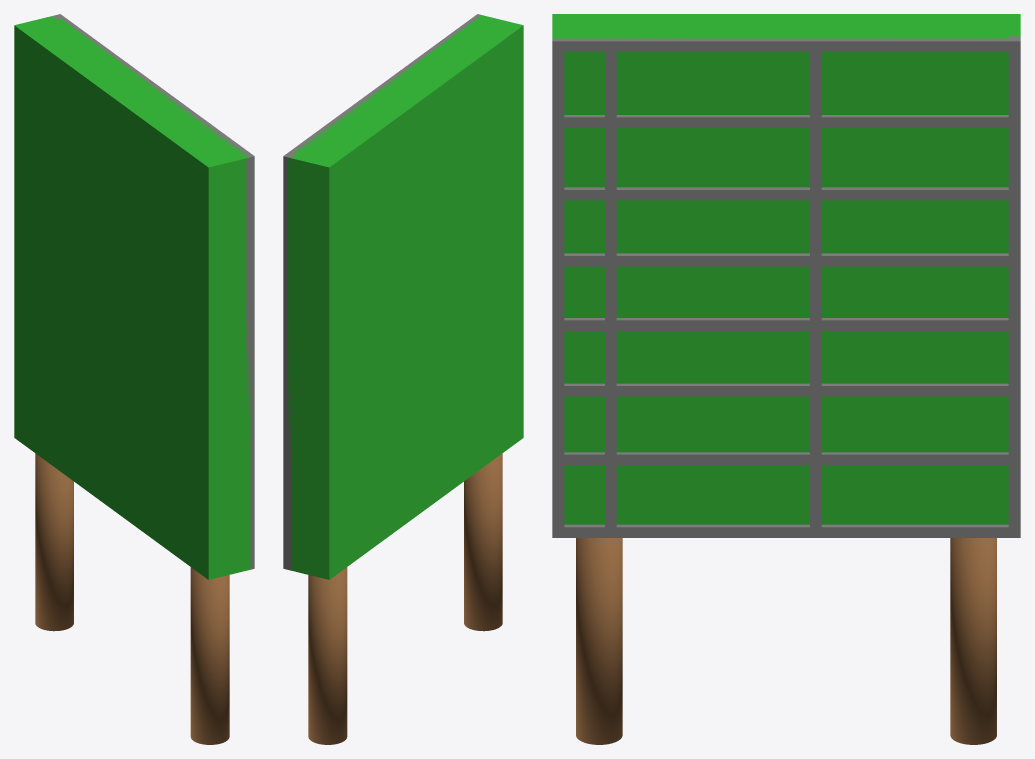
The model's file is scorboard.fbx.
3 renders of one model, left to right at view 1: azimuth 30°, elevation 25°; view 2: azimuth 150°, elevation 25°; view 3: azimuth 270°, elevation 25°, orthographic. The views are drawn at different scales.
Parts seen in each view (by area): view 1: Cube, Cylinder.001, Cylinder, Cube.005, Cube.003; view 2: Cube, Cylinder, Cylinder.001, Cube.004, Cube.003; view 3: Cube, Cylinder, Cylinder.001, Cube.004, Cube.005, Cube.003, Cube.011, Cube.010, Cube.001, Cube.007, Cube.002, Cube.008 (+3 smaller).
Boxes of the visible parts, x1=… form: Cube: x1=14, y1=16, x2=250, y2=579; Cylinder.001: x1=190, y1=567, x2=229, y2=744; Cylinder: x1=35, y1=453, x2=73, y2=631; Cube.005: x1=246, y1=156, x2=254, y2=560; Cube.003: x1=61, y1=17, x2=254, y2=157; Cube: x1=287, y1=15, x2=523, y2=579; Cylinder: x1=308, y1=567, x2=347, y2=744; Cylinder.001: x1=464, y1=453, x2=502, y2=631; Cube.004: x1=283, y1=152, x2=295, y2=570; Cube.003: x1=283, y1=14, x2=481, y2=165; Cube: x1=552, y1=14, x2=1020, y2=524; Cylinder: x1=950, y1=538, x2=996, y2=744; Cylinder.001: x1=576, y1=538, x2=622, y2=744; Cube.004: x1=1008, y1=36, x2=1020, y2=537; Cube.005: x1=552, y1=41, x2=564, y2=537; Cube.003: x1=552, y1=36, x2=1020, y2=51; Cube.011: x1=552, y1=187, x2=1020, y2=200; Cube.010: x1=552, y1=253, x2=1020, y2=266; Cube.001: x1=810, y1=39, x2=821, y2=537; Cube.007: x1=564, y1=383, x2=1011, y2=396; Cube.002: x1=564, y1=452, x2=1008, y2=465; Cube.008: x1=564, y1=524, x2=1008, y2=537.
Bounding box in the file's own units: 55 × 668 × 400.
